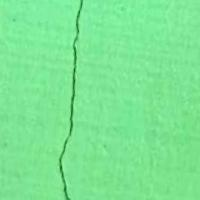crack: (50, 0, 106, 199)
